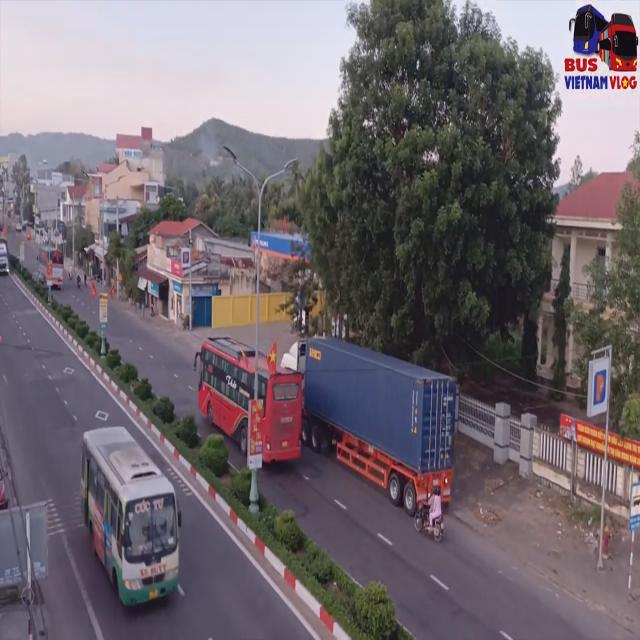bus: (82, 431, 184, 612), (198, 331, 306, 472)
motorbike: (414, 486, 444, 540)
truck: (301, 344, 457, 535)
